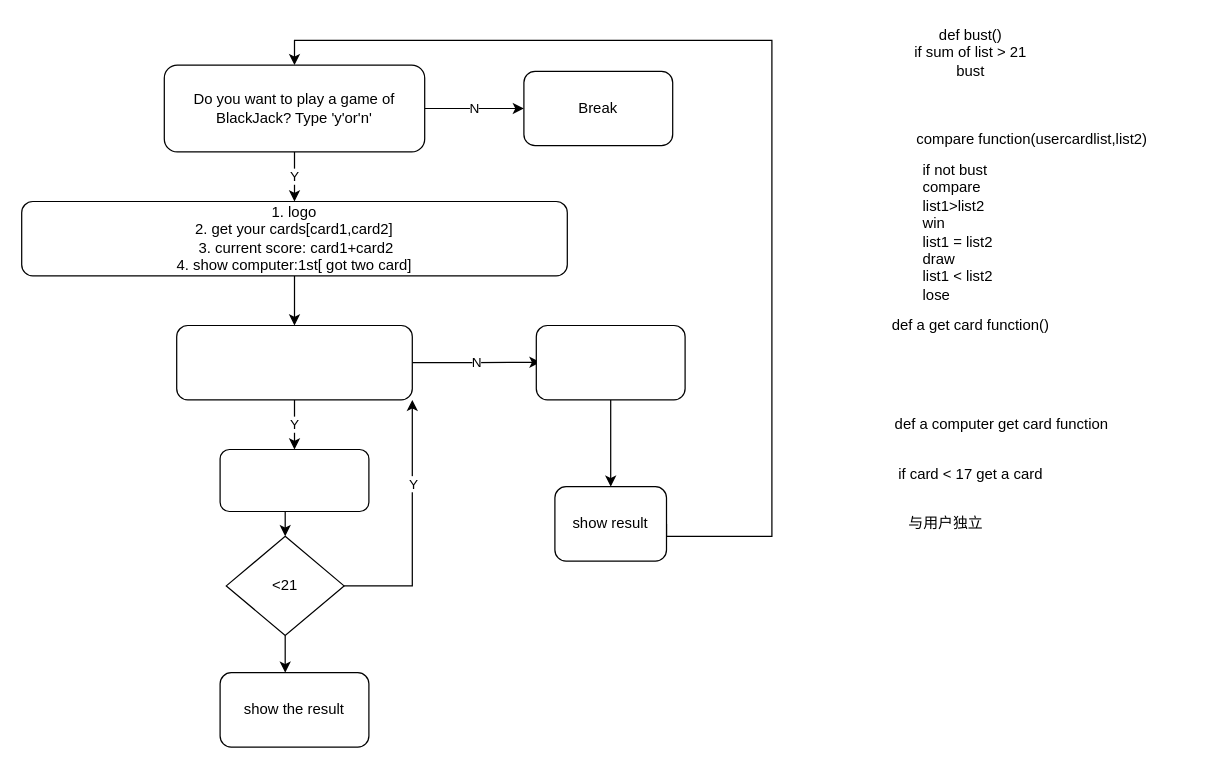
Some shapes in this 1215 by 769 pixel diagram are drawn without their labels. Each missing label, with the centre of its shape:
compare with computer card(): pixel 610 362
get card: pixel 294 480
Type 'y' to get another card, type 'n' to pass: pixel 293 362
